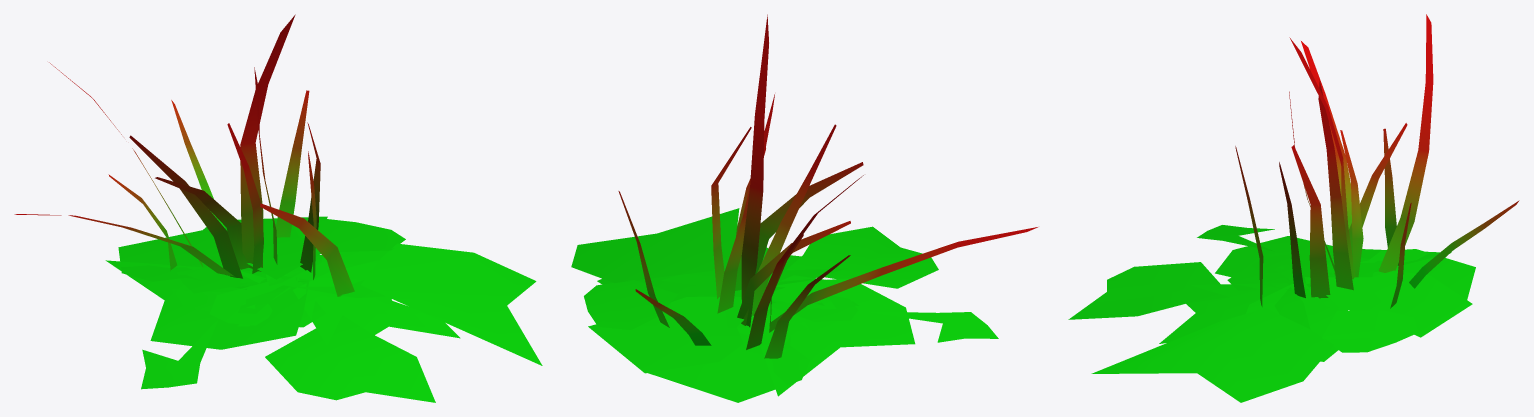
The model's file is Wild Grass_LOD1_Var12_vczndjqja.fbx.
The picture shows the model from 3 angles, left to right: view 1: azimuth 30°, elevation 25°; view 2: azimuth 150°, elevation 25°; view 3: azimuth 270°, elevation 25°; orthographic projection. The views are drawn at different scales.
Visible parts, largest first — view 1: _y4dv_Var12_LOD1; view 2: _y4dv_Var12_LOD1; view 3: _y4dv_Var12_LOD1.
Part boxes in pixels (box(x1,y1,x2,y2)): _y4dv_Var12_LOD1: box(14, 14, 542, 402); _y4dv_Var12_LOD1: box(571, 14, 1037, 402); _y4dv_Var12_LOD1: box(1068, 14, 1519, 402).
Bounding box in the file's own units: 54.15 × 32.29 × 47.8.
